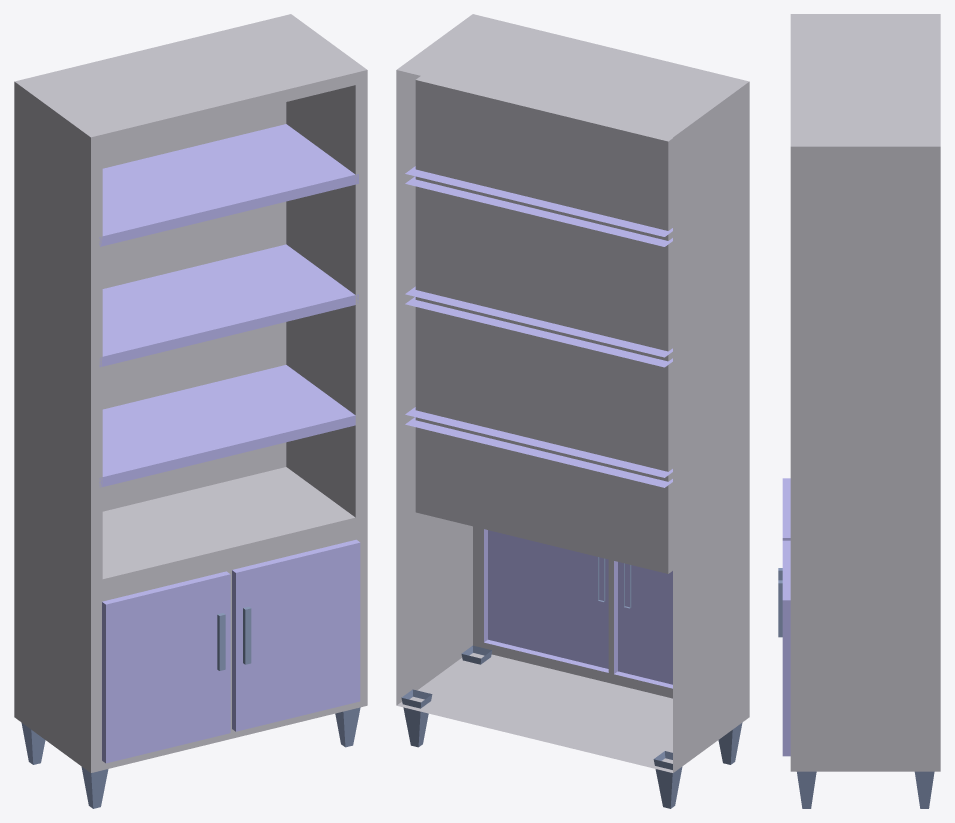
File: 5 cabinet.fbx
3 views of the same model, side by side, from view 1: azimuth 30°, elevation 25°; view 2: azimuth 150°, elevation 25°; view 3: azimuth 270°, elevation 25° (orthographic).
Parts seen in each view (by area): view 1: 5 cabinet; view 2: 5 cabinet; view 3: 5 cabinet.
Part boxes in pixels (<box>): 5 cabinet: <box>14,14,367,808</box>; 5 cabinet: <box>396,14,749,808</box>; 5 cabinet: <box>778,14,940,808</box>.
Size of the model in its own units: 47.75 by 112 by 24.72.
